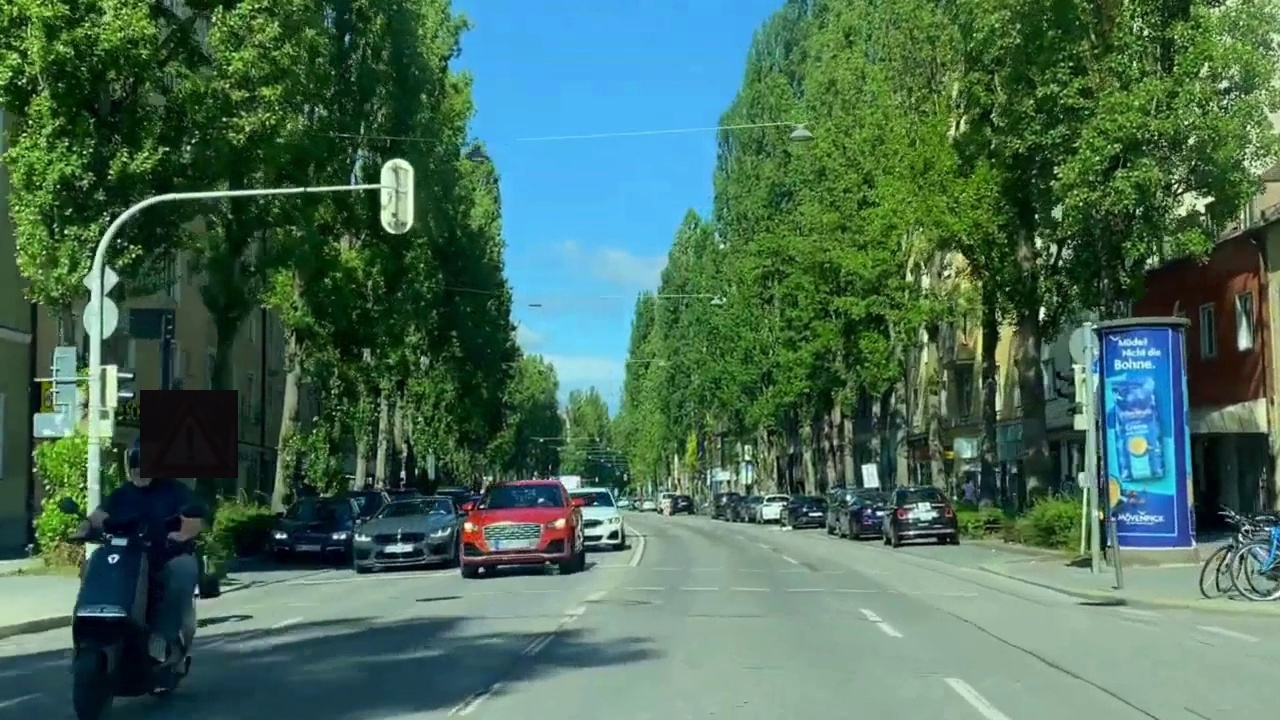Caution: (140, 390, 238, 478)
